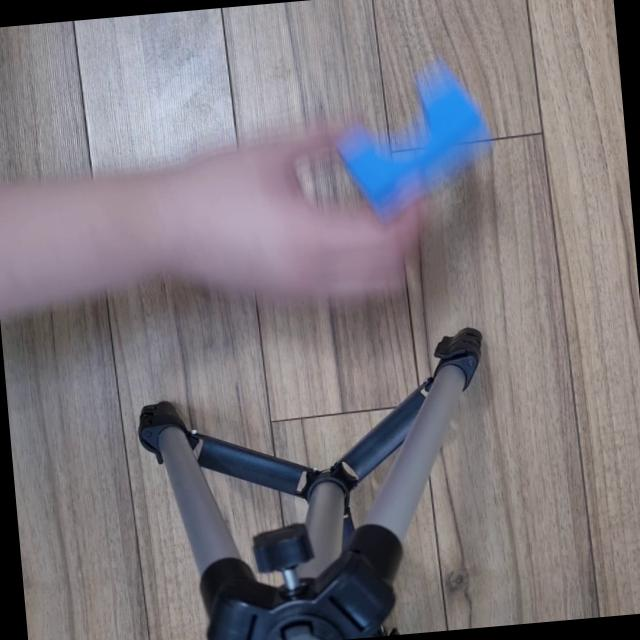block: (324, 66, 490, 208)
hand: (172, 110, 438, 340)
